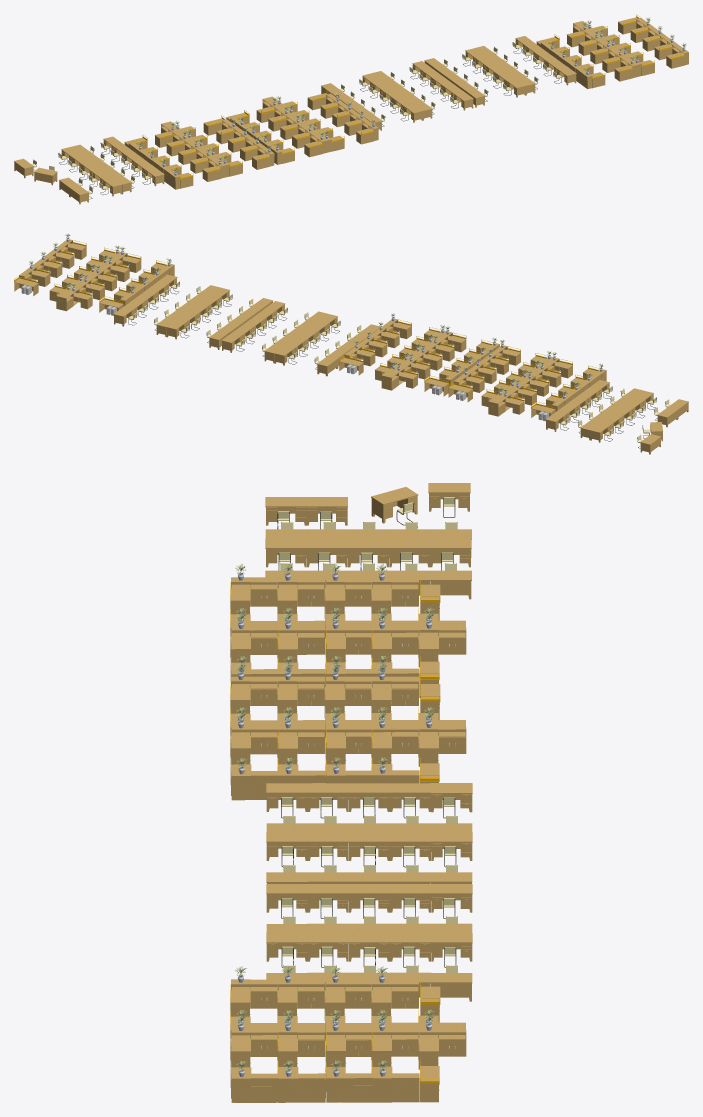
Rendered from 6楼桌椅.gltf.
3 renders of one model, top to bottom at view 1: azimuth 30°, elevation 25°; view 2: azimuth 150°, elevation 25°; view 3: azimuth 270°, elevation 25°, orthographic. The views are drawn at different scales.
Size of the model in its own units: 50.19 by 1.5 by 8.57.
13 materials, 1 textured.
